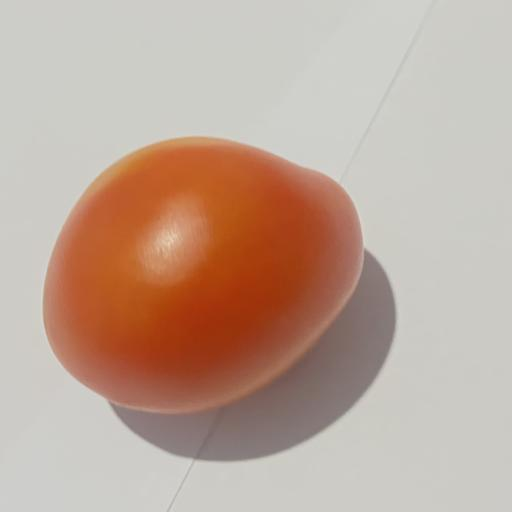ripe: (43, 139, 364, 413)
